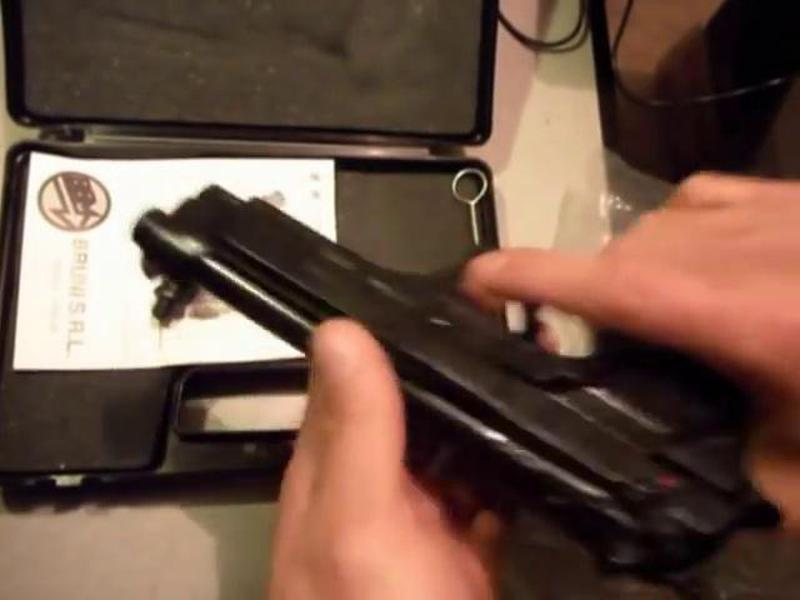Pistola: (148, 163, 800, 593)
